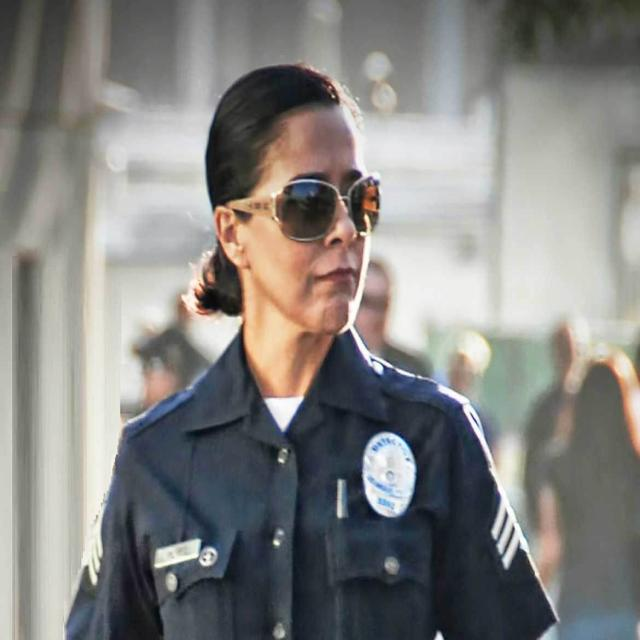police: (52, 49, 569, 640)
